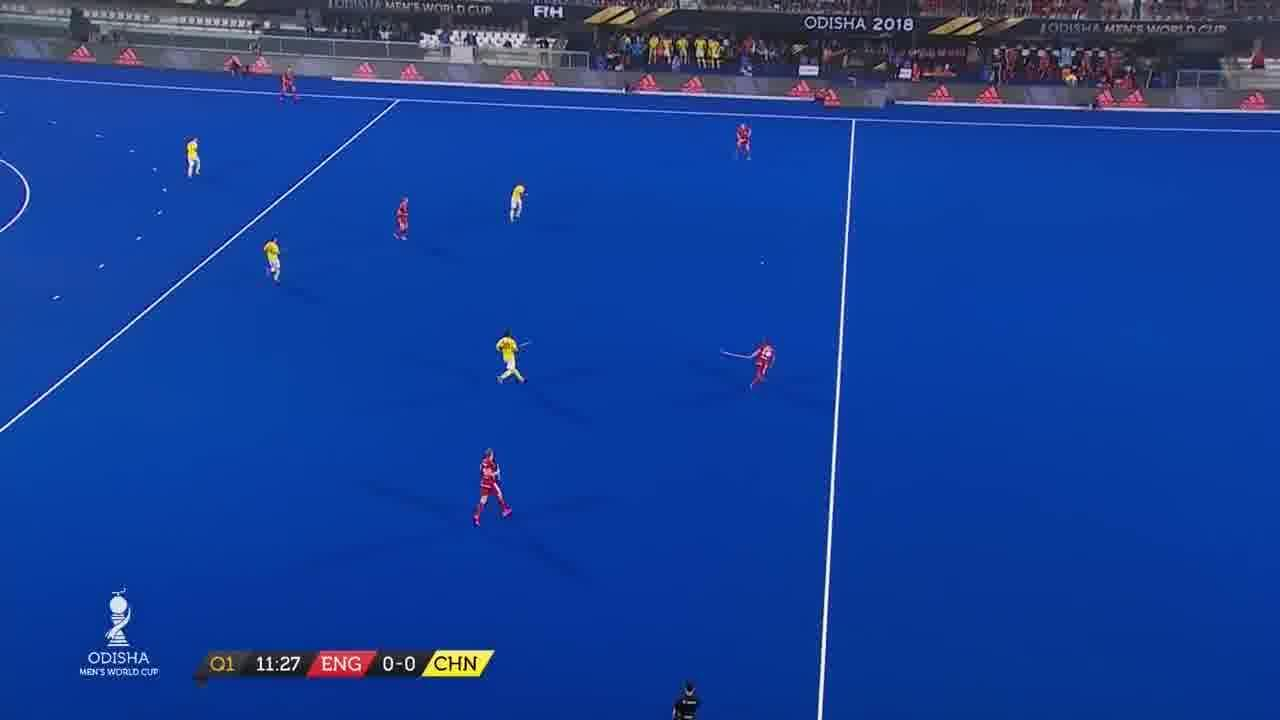ball: (761, 258, 769, 268)
